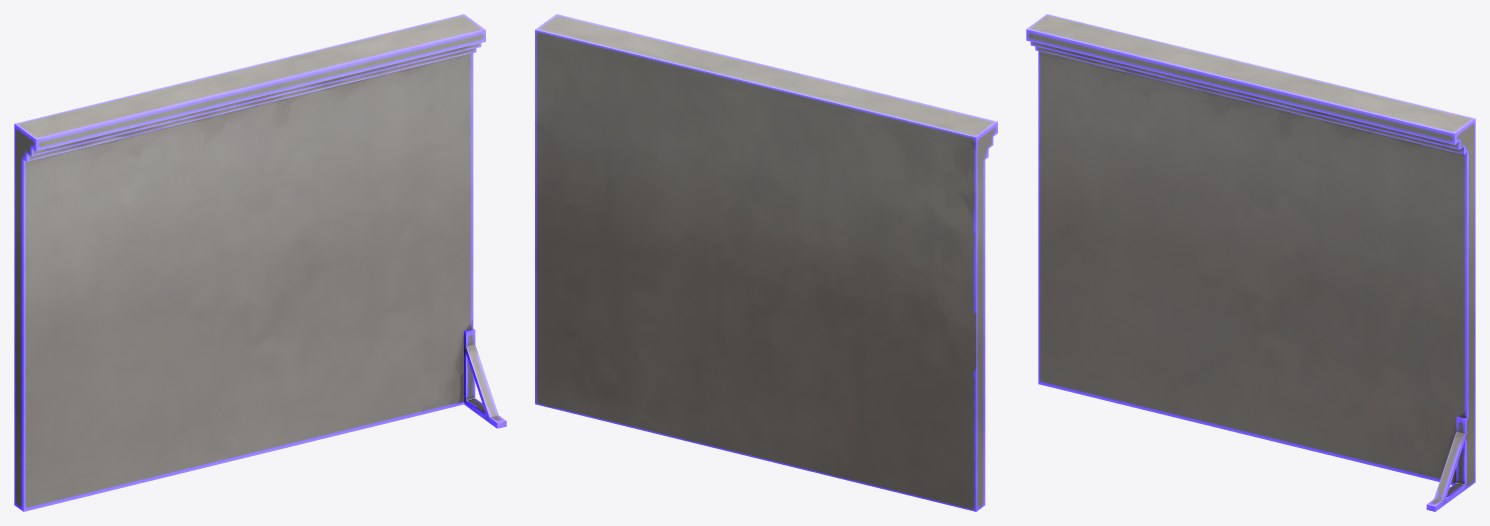
The model's file is durlock_pared.fbx.
The picture shows the model from 3 angles, left to right: view 1: azimuth 30°, elevation 25°; view 2: azimuth 150°, elevation 25°; view 3: azimuth 330°, elevation 25°; orthographic projection. The views are drawn at different scales.
Visible parts, largest first — view 1: durlock_pard; view 2: durlock_pard; view 3: durlock_pard.
Part boxes in pixels (x1,y1,x2,y2): durlock_pard: [14, 14, 506, 511]; durlock_pard: [535, 14, 997, 511]; durlock_pard: [1026, 14, 1475, 511].
Size of what is drawn, in the model's own units: 404 by 328 by 66.
